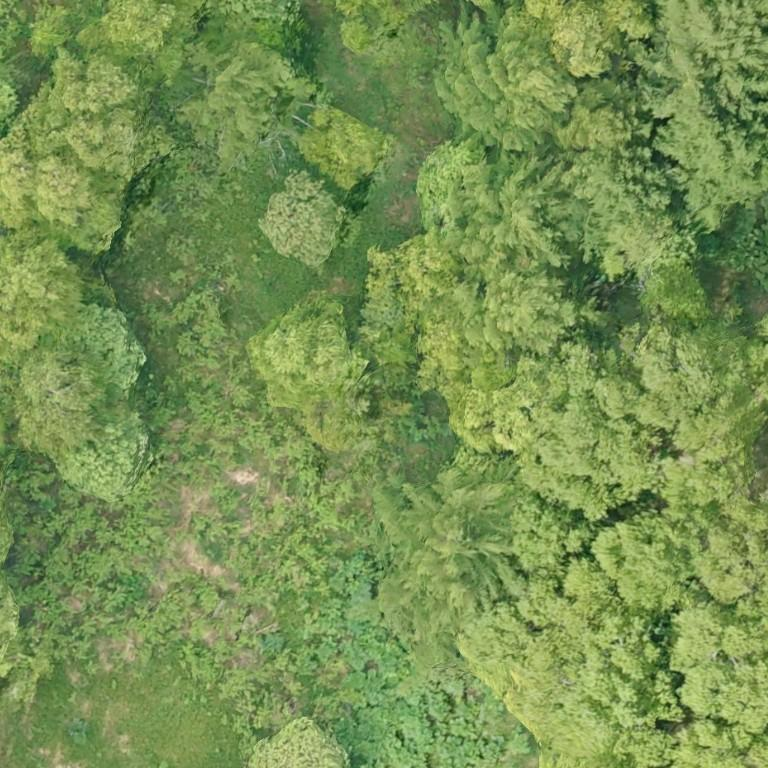hogweed: (314, 558, 502, 767)
